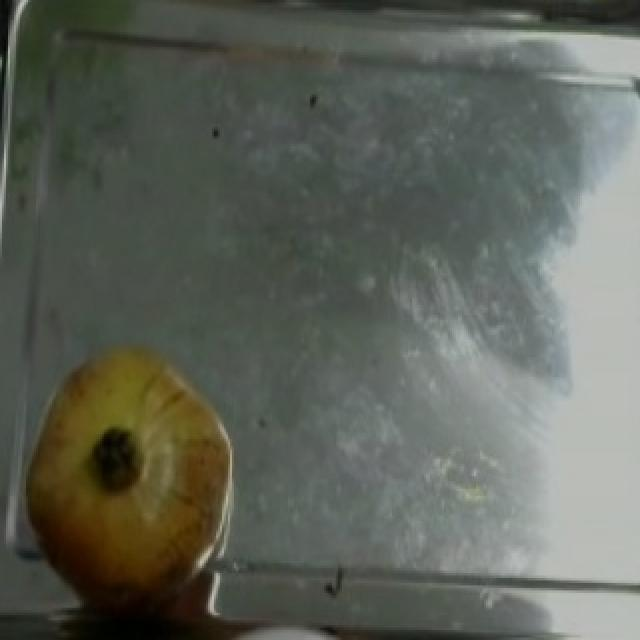fruit: (2, 337, 256, 640)
